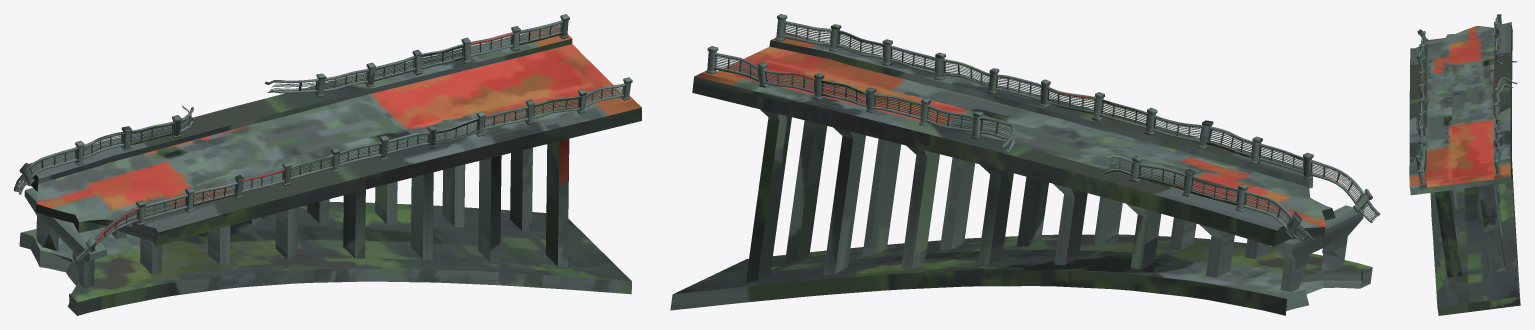
File: Barrière Pont.fbx
3 views of the same model, side by side, from view 1: azimuth 30°, elevation 25°; view 2: azimuth 150°, elevation 25°; view 3: azimuth 270°, elevation 25° (orthographic). The views are drawn at different scales.
Parts seen in each view (by area): view 1: Pont.006, Barrière pont; view 2: Pont.006, Barrière pont; view 3: Pont.006, Barrière pont.
Boxes of the visible parts, x1,y1,x2,y2 form: Pont.006: (19,25,641,315); Barrière pont: (14,14,632,261); Pont.006: (670,33,1372,315); Barrière pont: (706,14,1380,244); Pont.006: (1409,22,1520,315); Barrière pont: (1415,14,1517,183).
Size of the model in its own units: 1156 by 482 by 324.
